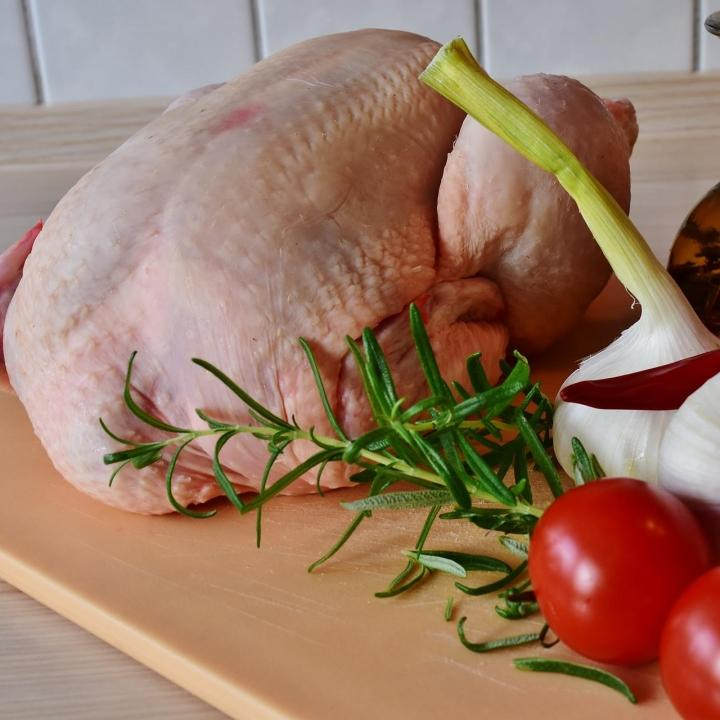chicken: (6, 30, 720, 578)
